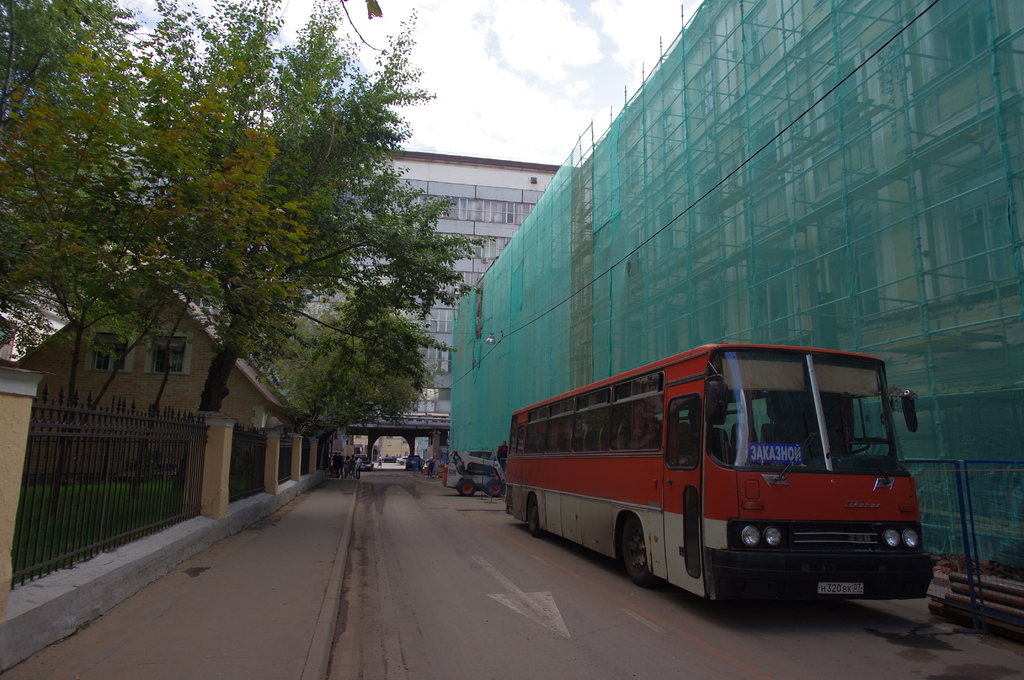Car: (400, 457, 423, 466), (357, 459, 373, 471), (382, 455, 397, 463)
